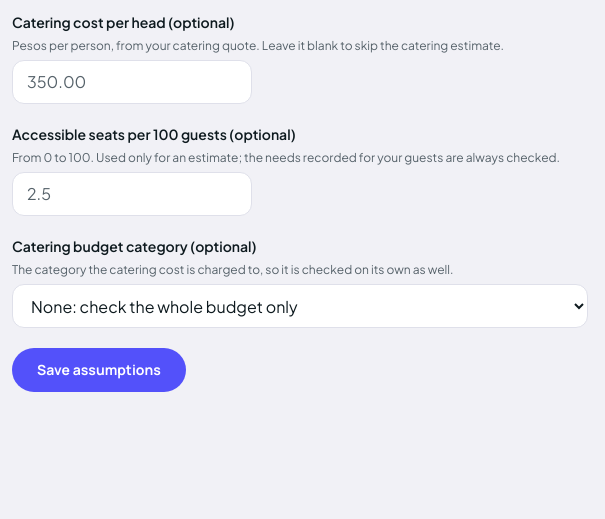
it: the assumptions form › shows a refusal from the server as a critical banner
Click the button "Save assumptions" at (99, 370), box [12, 348, 186, 392]
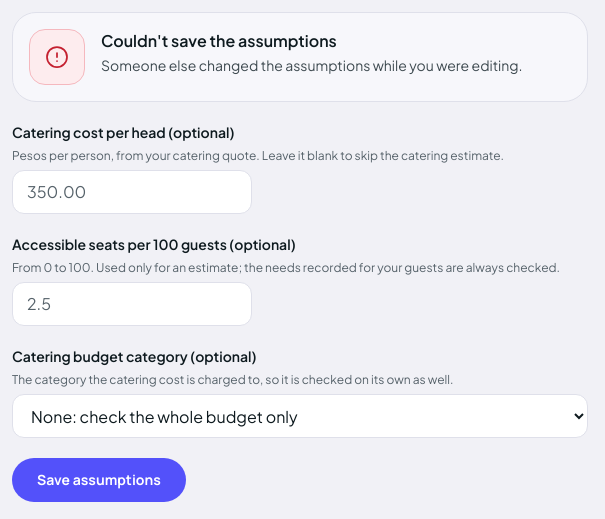
Now the message shows "Someone else changed the assumptions while you were editing.", box [101, 56, 523, 74]
